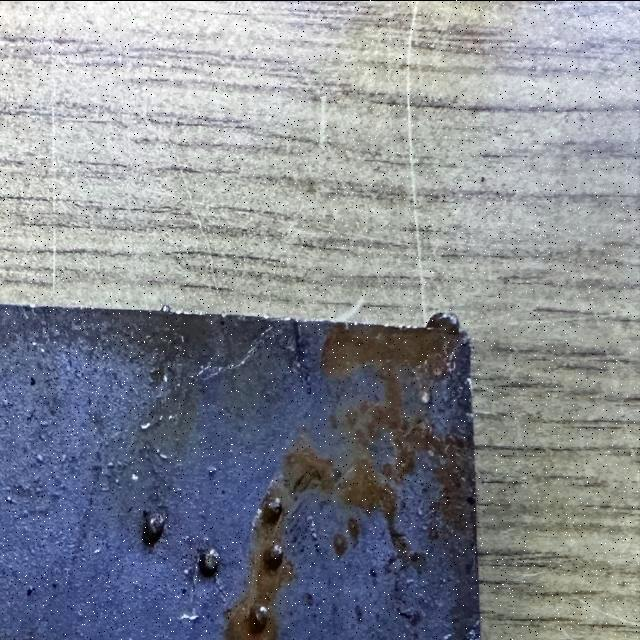Spatters: (142, 507, 167, 547), (426, 312, 460, 333), (261, 495, 282, 525), (199, 547, 219, 577), (249, 603, 268, 633), (264, 543, 282, 570), (421, 387, 431, 402), (304, 593, 314, 607), (161, 303, 171, 312), (26, 587, 34, 595), (6, 495, 12, 503), (52, 582, 57, 588)
